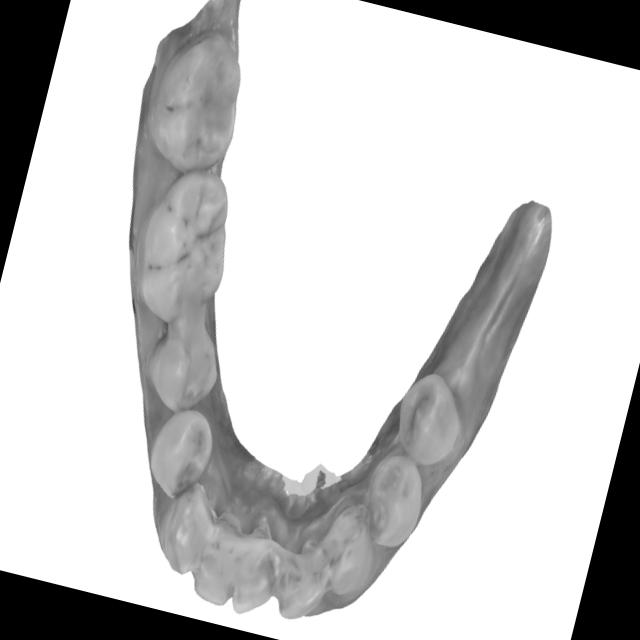tooth: (119, 146, 254, 337), (132, 13, 262, 192), (134, 300, 236, 427), (302, 485, 400, 612), (136, 386, 231, 516), (142, 462, 232, 592), (382, 360, 475, 480), (349, 442, 442, 558), (258, 521, 345, 637), (185, 488, 260, 621), (220, 504, 296, 632)
